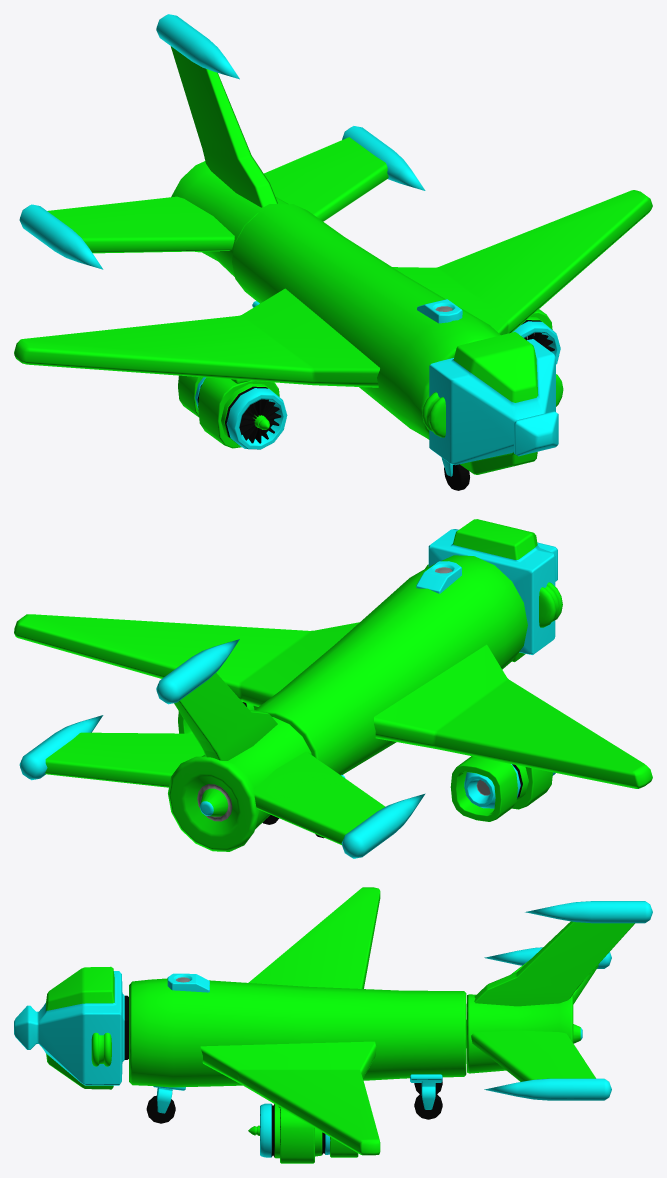
3 views of the same model, one above another, from view 1: azimuth 30°, elevation 25°; view 2: azimuth 150°, elevation 25°; view 3: azimuth 270°, elevation 25° (orthographic). The views are drawn at different scales.
Parts seen in each view (by area): view 1: Fin09, Body9_A, Wing9_R, Propeller09, Wing9_L, Spurt09_R, Spurt09_L; view 2: Fin09, Body9_A, Wing9_R, Wing9_L, Propeller09, Spurt09_R; view 3: Body9_A, Fin09, Wing9_L, Propeller09, Wing9_R, Spurt09_L, Body9_C, Body9_D.
Boxes of the visible parts, <box> form: Fin09: <box>19,14,425,276</box>; Body9_A: <box>232,204,500,439</box>; Wing9_R: <box>14,288,379,387</box>; Propeller09: <box>422,332,563,474</box>; Wing9_L: <box>392,190,652,335</box>; Spurt09_R: <box>178,375,287,449</box>; Spurt09_L: <box>512,309,560,364</box>; Fin09: <box>19,639,425,858</box>; Body9_A: <box>254,555,527,774</box>; Wing9_R: <box>374,644,652,788</box>; Wing9_L: <box>14,614,359,706</box>; Propeller09: <box>425,519,562,662</box>; Spurt09_R: <box>450,756,555,821</box>; Body9_A: <box>129,973,466,1087</box>; Fin09: <box>466,901,652,1100</box>; Wing9_L: <box>200,1041,380,1155</box>; Propeller09: <box>14,966,128,1089</box>; Wing9_R: <box>248,887,380,988</box>; Spurt09_L: <box>248,1103,358,1163</box>; Body9_C: <box>410,1074,442,1119</box>; Body9_D: <box>146,1086,185,1123</box>.
Size of the model in its own units: 19.98 by 7.97 by 20.88.
